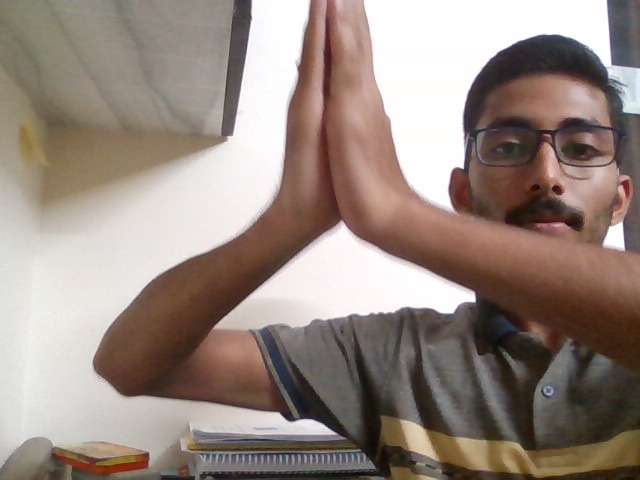Thank You: (243, 1, 440, 286)
